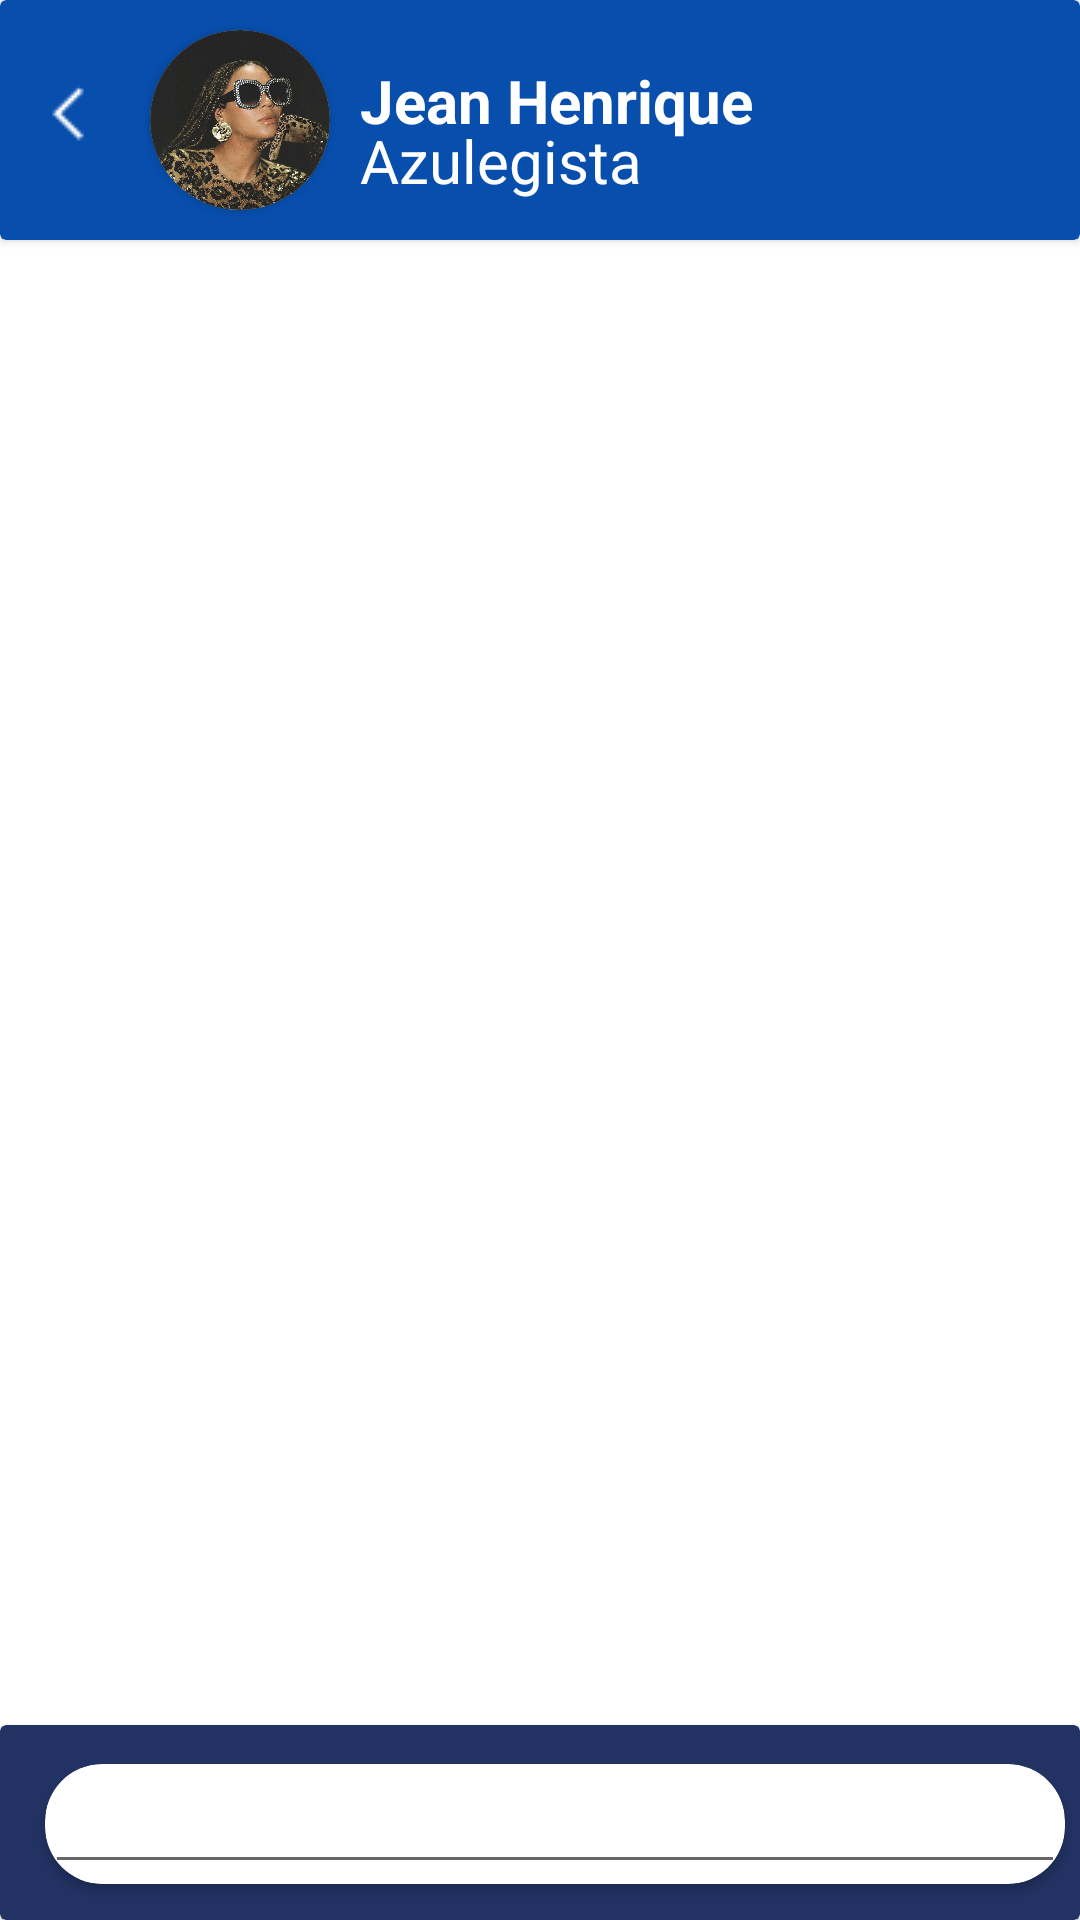

Screen size 1080*1920. Icon name, then its box in pixels as (x1, y1, x2, y2):
left arrow: (52, 87, 84, 141)
